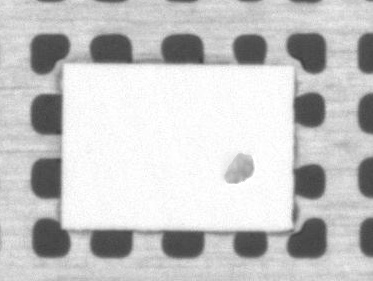DIE_INK: (225, 152, 256, 183)
